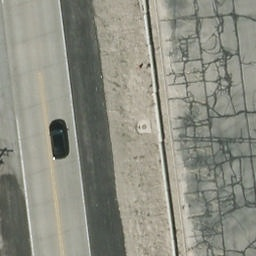car: (49, 121, 70, 159)
